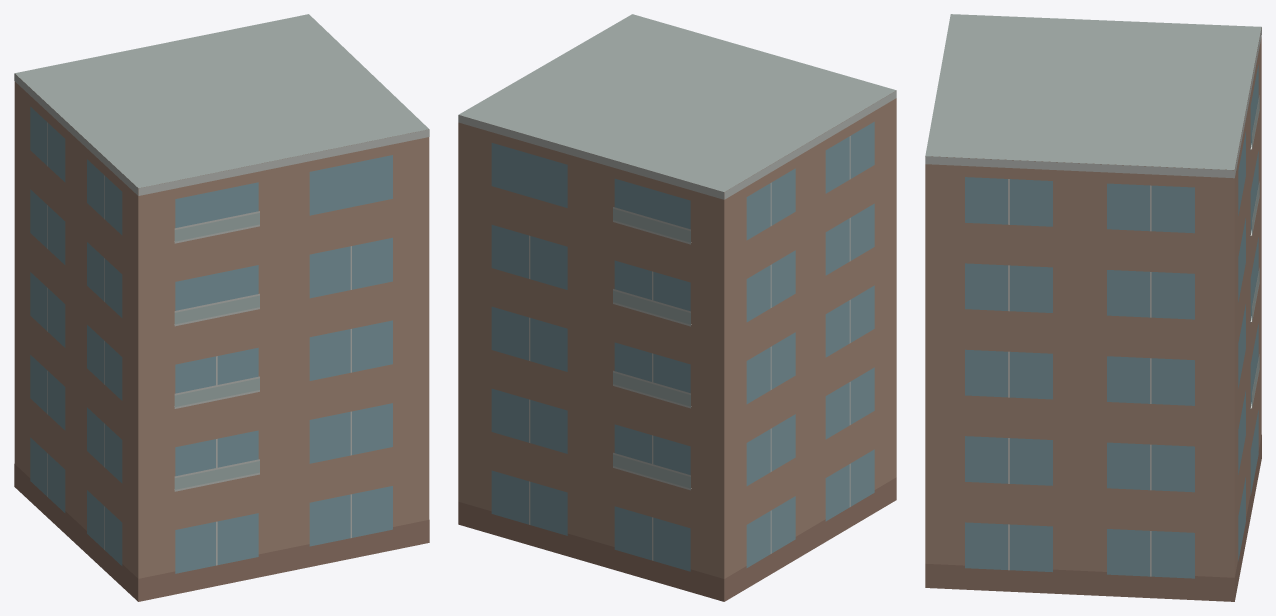
The model's file is survey-upis-32969819.glb.
The picture shows the model from 3 angles, left to right: view 1: azimuth 30°, elevation 25°; view 2: azimuth 150°, elevation 25°; view 3: azimuth 270°, elevation 25°; orthographic projection. The views are drawn at different scales.
Parts seen in each view (by area): view 1: survey-upis-32969819.tmp; view 2: survey-upis-32969819.tmp; view 3: survey-upis-32969819.tmp.
Boxes of the visible parts, left/top/right/bottom form: survey-upis-32969819.tmp: left=14, top=14, right=429, bottom=601; survey-upis-32969819.tmp: left=458, top=14, right=896, bottom=601; survey-upis-32969819.tmp: left=925, top=14, right=1261, bottom=601.
Size of the model in its own units: 10.09 by 13 by 9.19.
